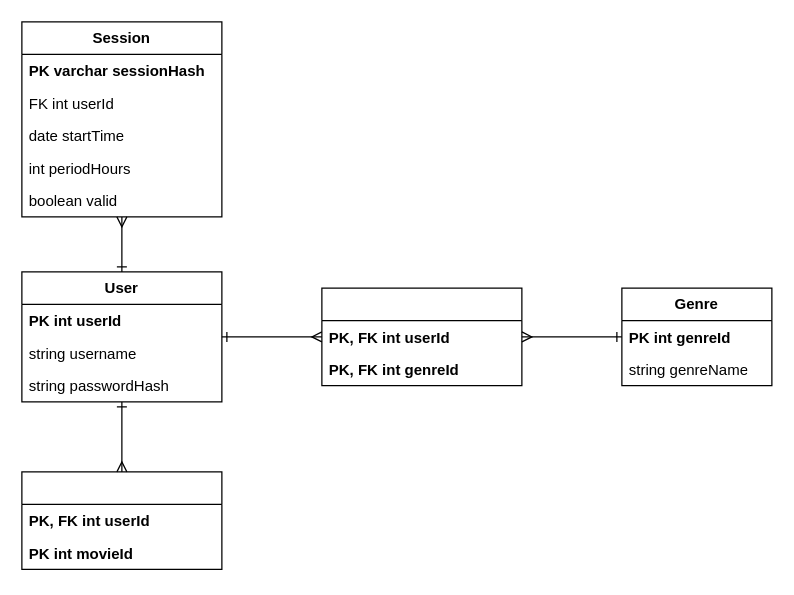
Image size: 794x595. Some labels were removed from this diagram. Each missing label, with the box of its shape:
FavouriteMovie: (21, 471, 222, 569)
GenrePreference: (321, 287, 522, 386)
